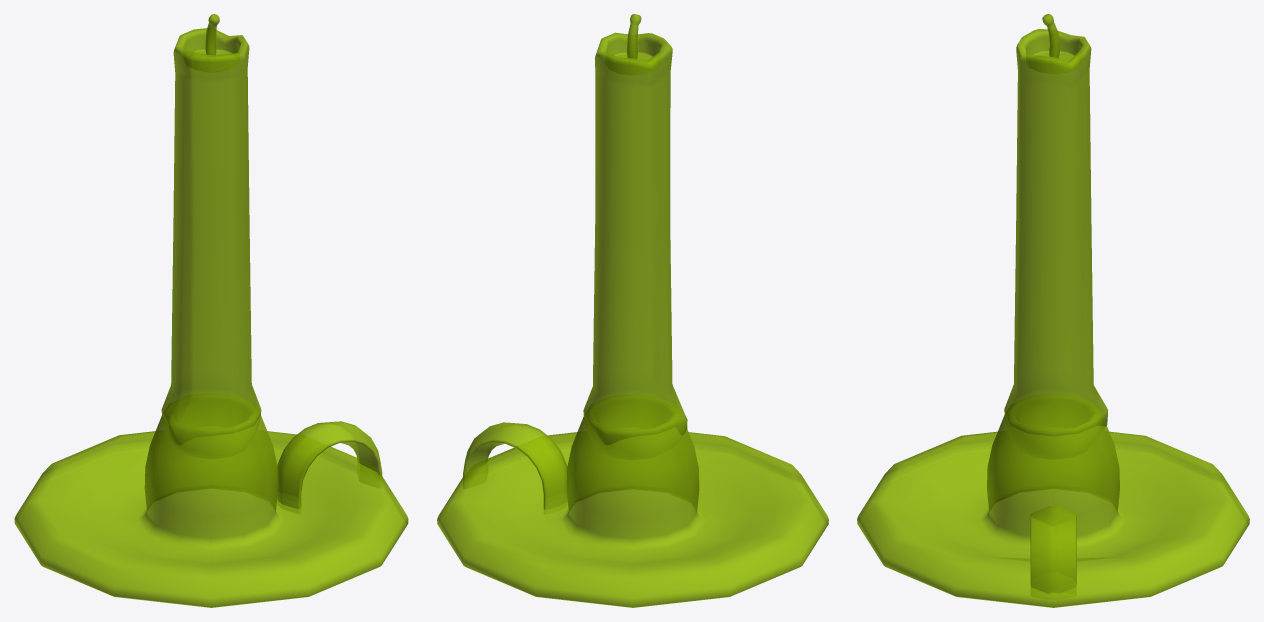
File: SM_Candle_02_Unity.fbx
3 renders of one model, left to right at view 1: azimuth 30°, elevation 25°; view 2: azimuth 150°, elevation 25°; view 3: azimuth 270°, elevation 25°, orthographic.
Visible parts, largest first — view 1: SM_Candle_02_Support_low; view 2: SM_Candle_02_Support_low; view 3: SM_Candle_02_Support_low.
Part boxes in pixels (x1,y1,x2,y2): SM_Candle_02_Support_low: [14, 14, 408, 607]; SM_Candle_02_Support_low: [437, 14, 828, 607]; SM_Candle_02_Support_low: [857, 14, 1249, 607].
Size of the model in its own units: 20.04 by 28.77 by 20.04.
